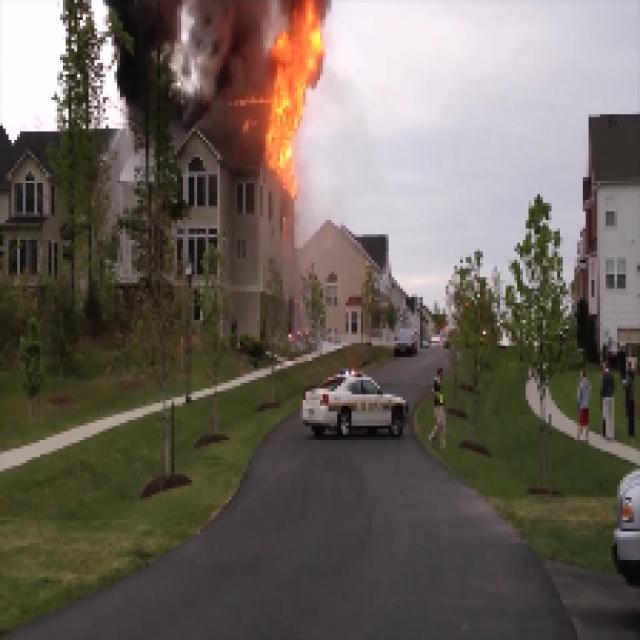fire: (270, 6, 312, 171)
smoke: (112, 1, 263, 102)
